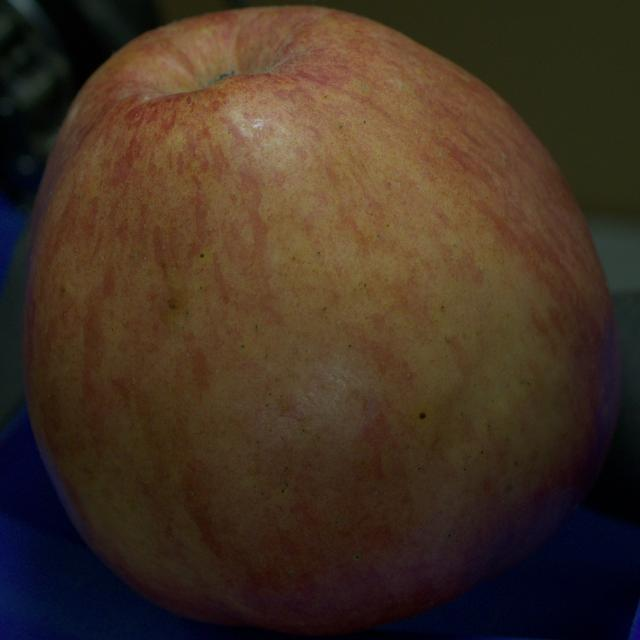apple: (23, 6, 620, 634)
